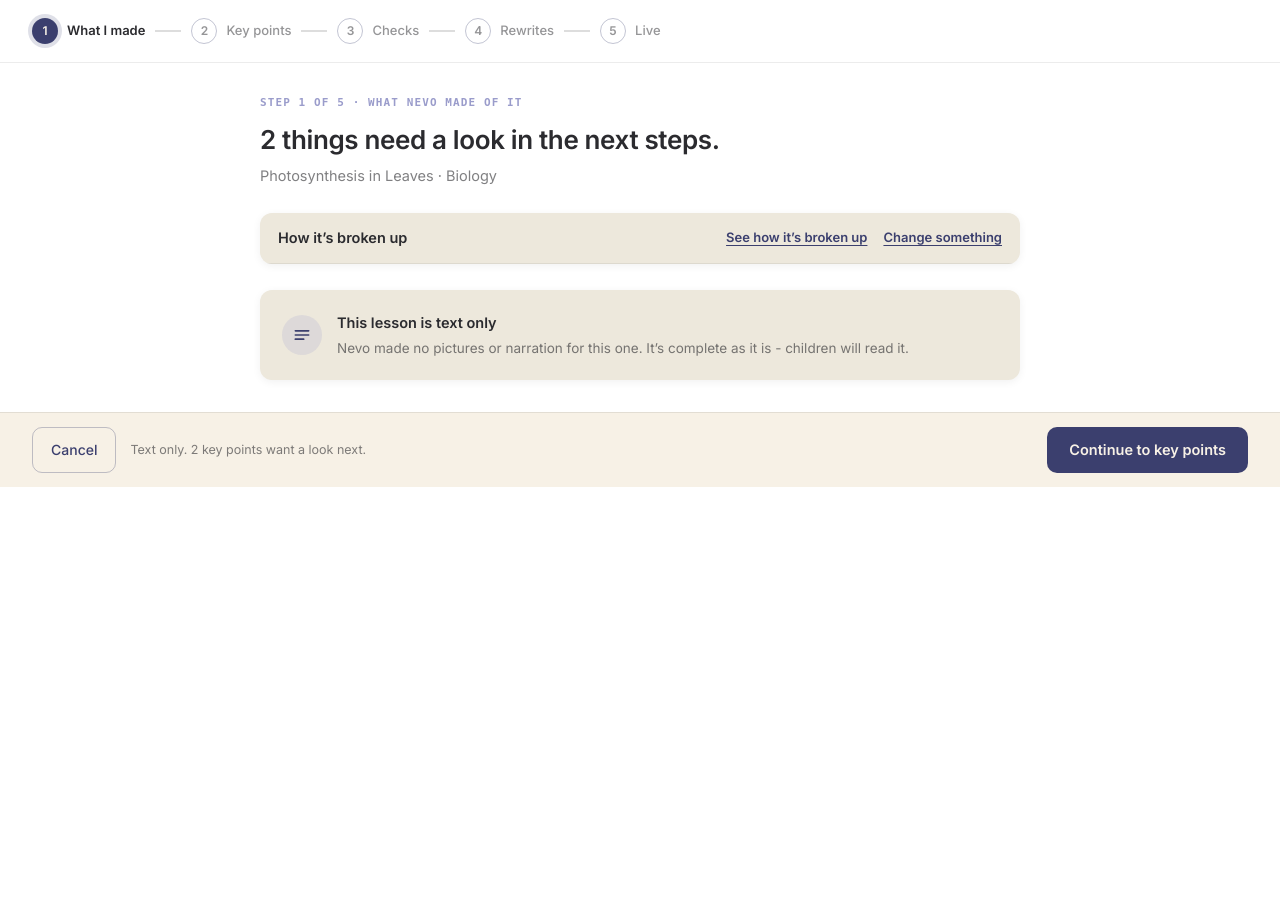
four screens, not one page › shows the structure only when asked
Expected: the navigation bar named "Lesson review steps" is shown, [0,0,1279,63]
Expected: the text "Part 2" is not shown
Click the button "See how it’s broken up": (797, 238) [726,228,868,248]
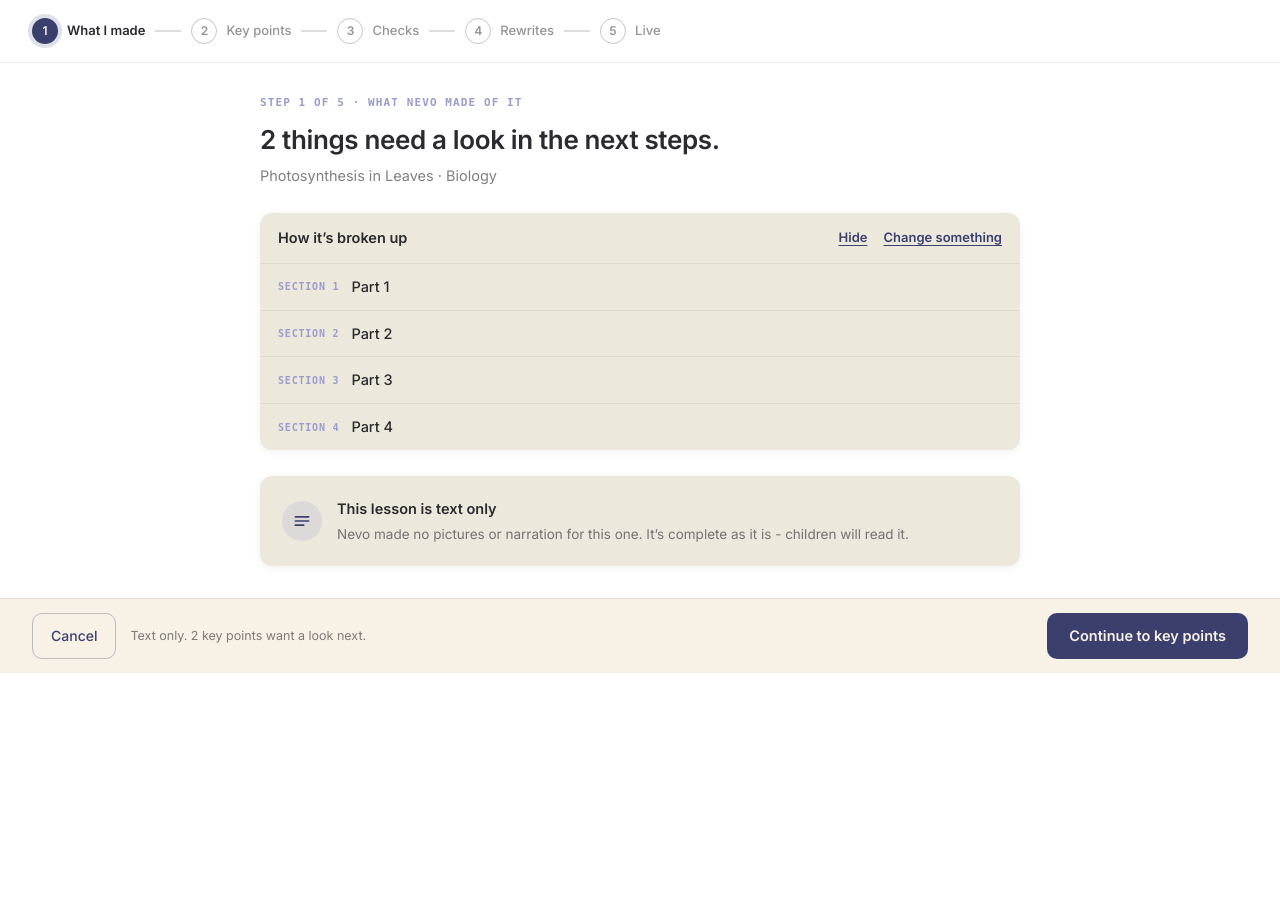
Expected: the text "Part 2" is shown, [351,325,392,342]
